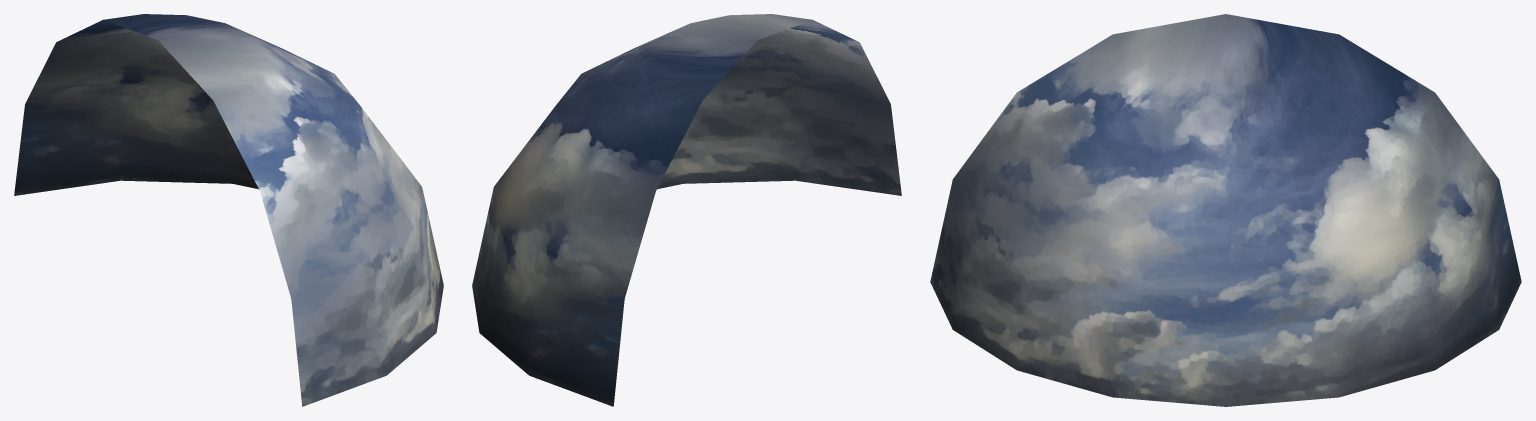
The model's file is lumina_sky.FBX.
The picture shows the model from 3 angles, left to right: view 1: azimuth 30°, elevation 25°; view 2: azimuth 150°, elevation 25°; view 3: azimuth 270°, elevation 25°; orthographic projection. The views are drawn at different scales.
Visible parts, largest first — view 1: sphere; view 2: sphere; view 3: sphere.
Boxes of the visible parts, box(x1,y1,x2,y2) form: sphere: box(14, 14, 443, 406); sphere: box(472, 14, 901, 406); sphere: box(930, 14, 1521, 406).
Bounding box in the file's own units: 28.12 × 28.12 × 56.25.
